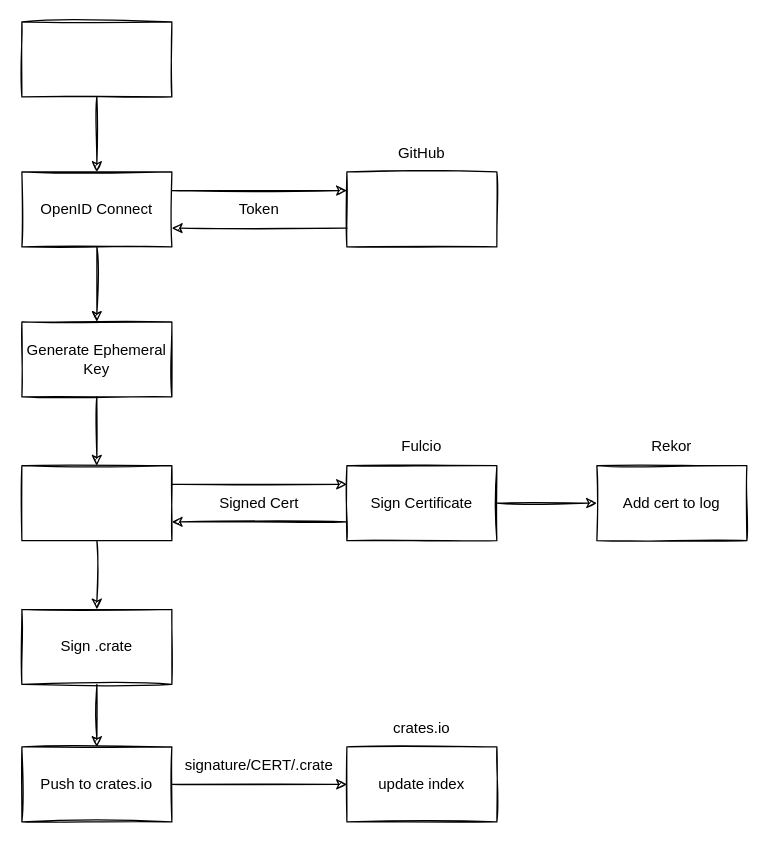
The diagram is 769 pixels wide and 844 high, and some of its shapes have lost their labels. The shapes that lost their labels are listed below. From the top down, each one's centre as x and y in pixels, then its label:
(x=96, y=59): cargo publish
(x=421, y=209): Authenticate
(x=96, y=502): Certificate Signing Request
